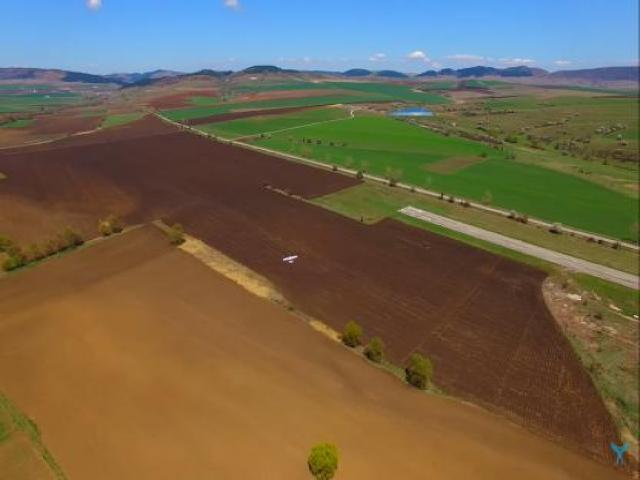uav: (279, 249, 301, 267)
